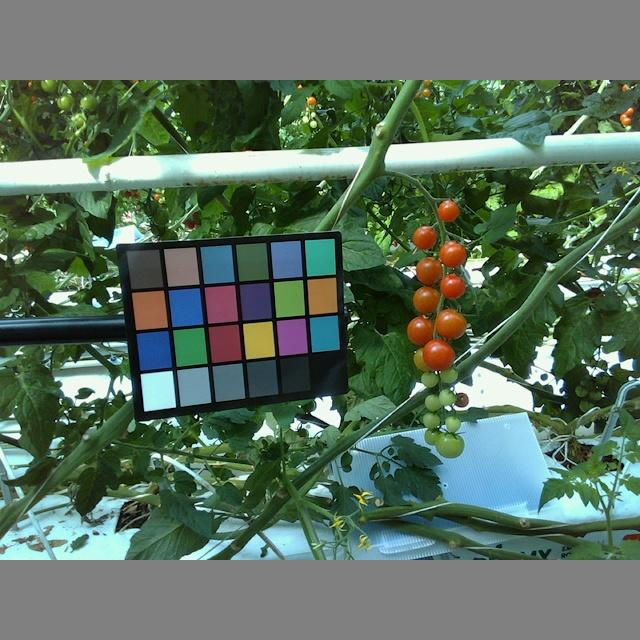green: (433, 430, 465, 456), (421, 426, 444, 446), (436, 366, 457, 385), (425, 393, 446, 412), (422, 410, 440, 429), (438, 388, 456, 406), (420, 371, 438, 387), (444, 416, 463, 431)
pink: (420, 338, 455, 372), (434, 308, 467, 341), (406, 316, 437, 345), (412, 285, 442, 314), (414, 254, 442, 285), (438, 240, 467, 268), (439, 270, 467, 299), (411, 223, 437, 250), (435, 200, 459, 223)
